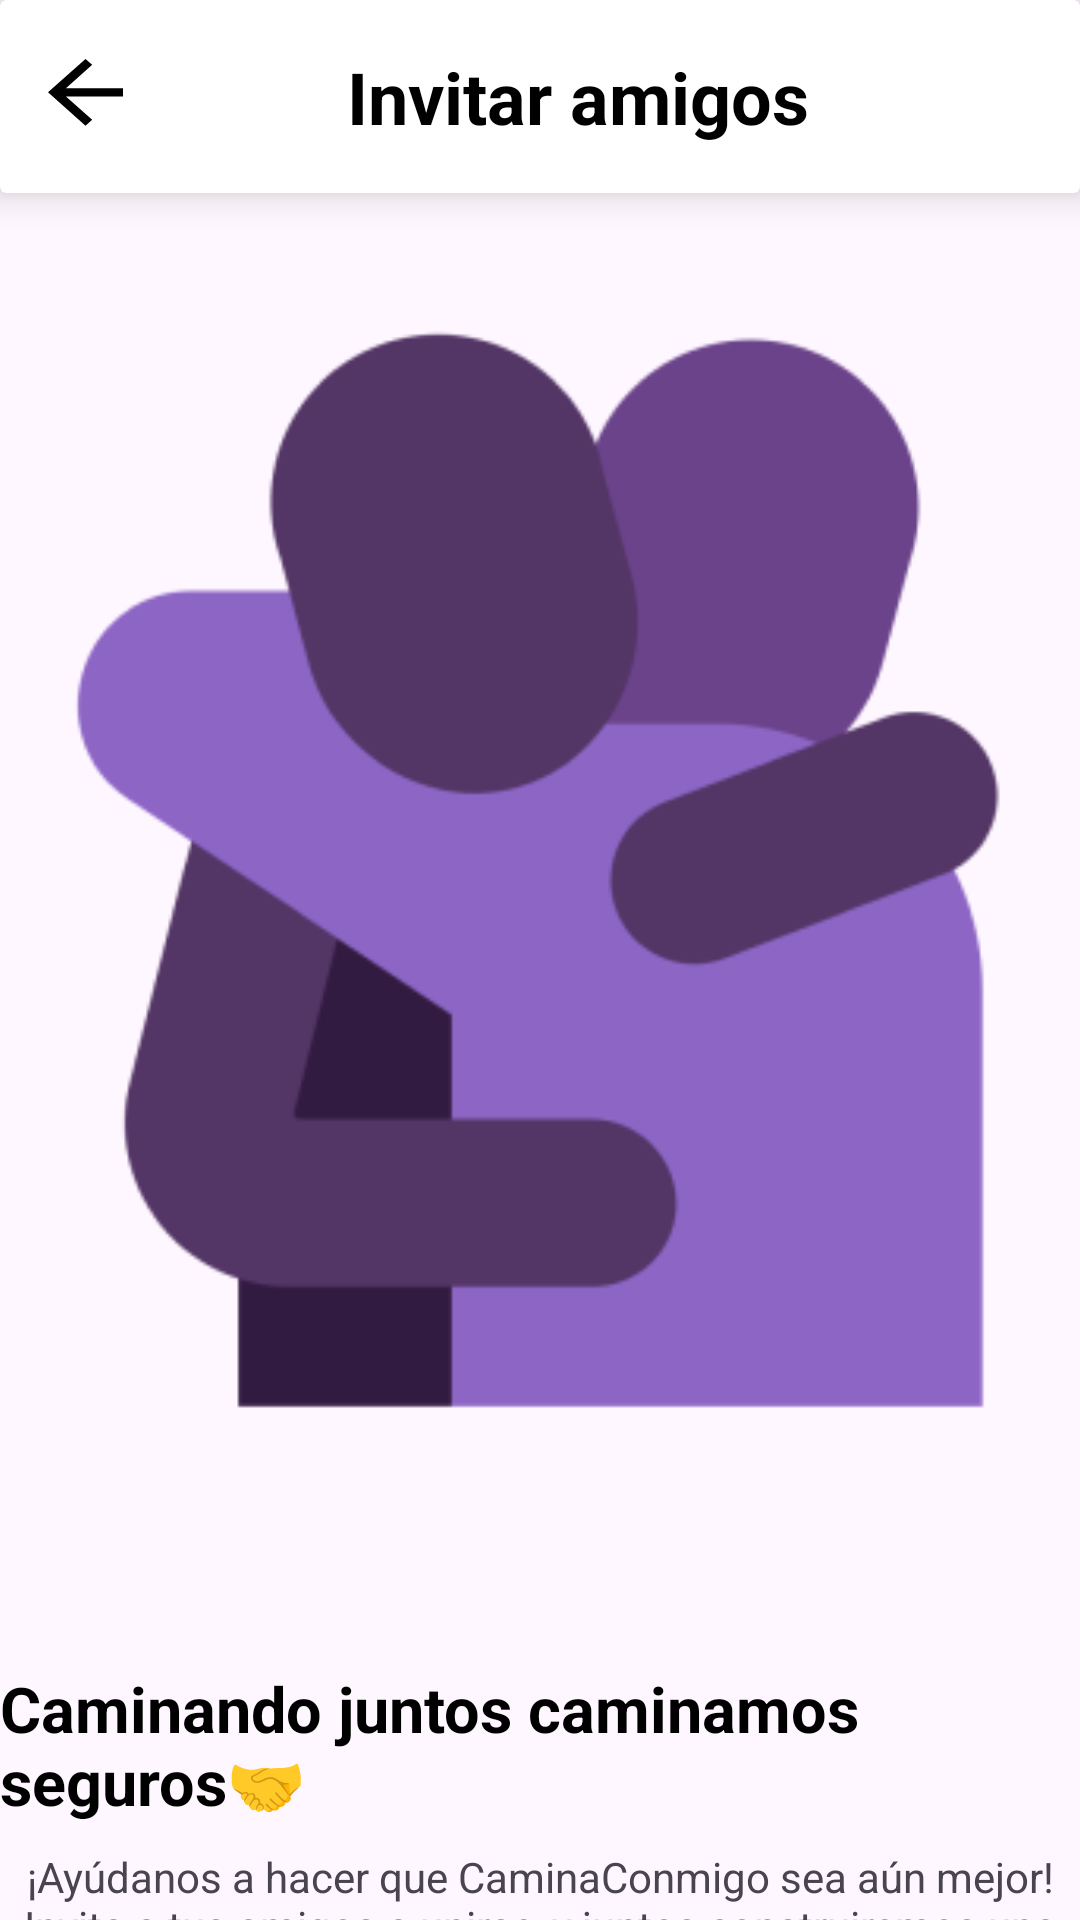

Screen size 1080×1920. Icon name, then its box in pixels as (x1, y1, x2, y2):
Retroceder: (48, 59, 123, 126)
